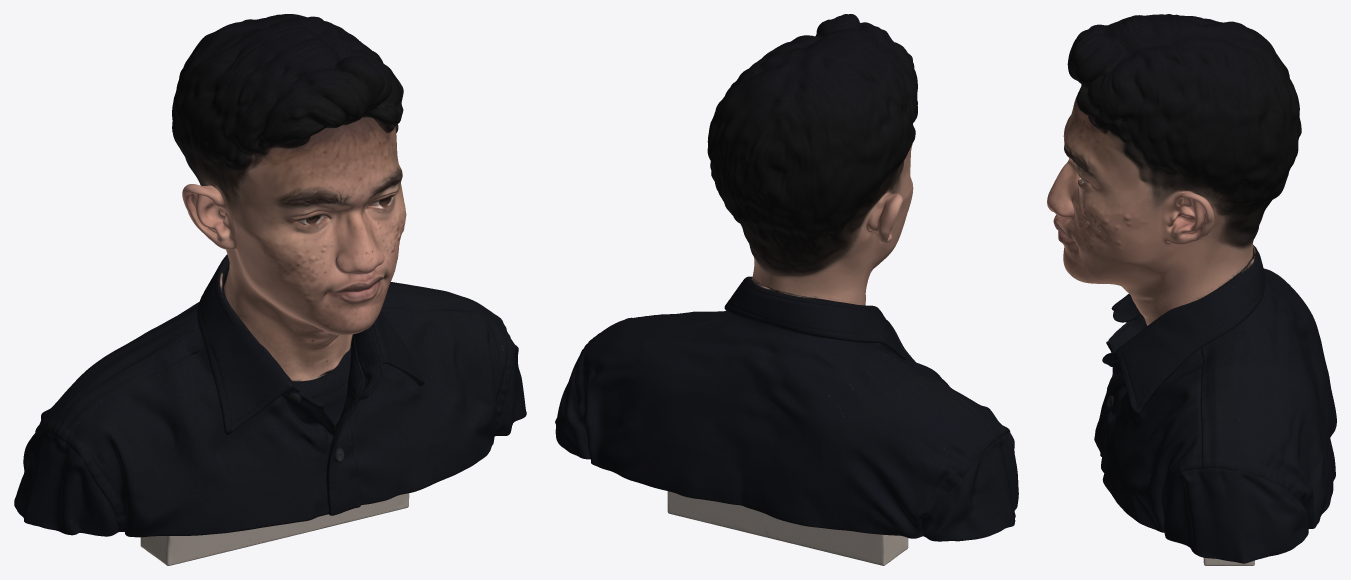
3 renders of one model, left to right at view 1: azimuth 30°, elevation 25°; view 2: azimuth 150°, elevation 25°; view 3: azimuth 270°, elevation 25°, orthographic. The views are drawn at different scales.
Bounding box in the file's own units: 1.9 × 1.9 × 1.03.
Materials: 1 (1 with a texture image).
